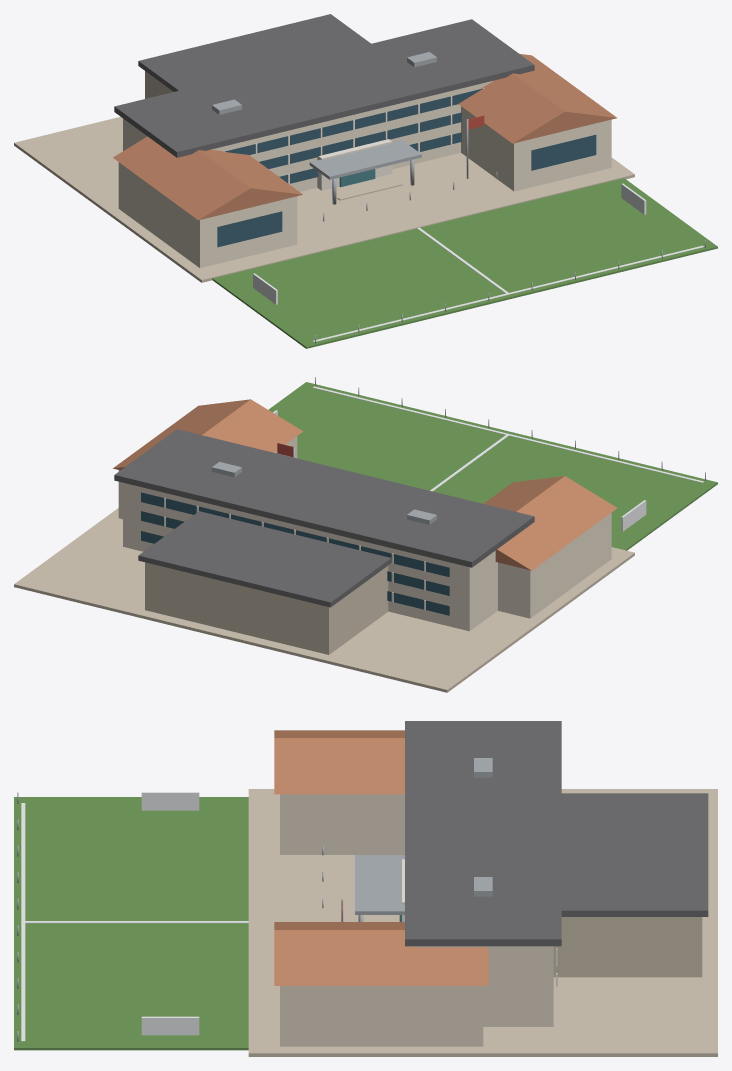
The model's file is school.glb.
3 views of the same model, one above another, from view 1: azimuth 30°, elevation 25°; view 2: azimuth 150°, elevation 25°; view 3: azimuth 270°, elevation 25° (orthographic). The views are drawn at different scales.
Parts seen in each view (by area): view 1: school_field, Merged_RoofDark, Merged_TownStone, Merged_TownPlaster, Merged_TownRoof, Merged_WindowGlassDark, Merged_PropsMetal, Merged_CityWhitePaint, Merged_TownTrim; view 2: Merged_RoofDark, Merged_TownStone, school_field, Merged_TownPlaster, Merged_TownRoof, Merged_WindowGlassDark, Merged_CityWhitePaint, Merged_PropsMetal; view 3: school_field, Merged_RoofDark, Merged_TownStone, Merged_TownPlaster, Merged_TownRoof, Merged_CityWhitePaint, Merged_PropsMetal.
Boxes of the visible parts, <box> form: school_field: <box>212,178,717,348</box>; Merged_RoofDark: <box>114,14,534,157</box>; Merged_TownStone: <box>14,71,634,282</box>; Merged_TownPlaster: <box>118,80,611,268</box>; Merged_TownRoof: <box>113,54,616,220</box>; Merged_WindowGlassDark: <box>217,88,596,247</box>; Merged_PropsMetal: <box>212,52,705,343</box>; Merged_CityWhitePaint: <box>253,183,703,342</box>; Merged_TownTrim: <box>223,88,484,190</box>; Merged_RoofDark: <box>114,429,534,607</box>; Merged_TownStone: <box>14,508,634,692</box>; school_field: <box>268,382,717,550</box>; Merged_TownPlaster: <box>118,436,611,631</box>; Merged_TownRoof: <box>113,399,617,570</box>; Merged_WindowGlassDark: <box>141,492,449,615</box>; Merged_CityWhitePaint: <box>273,386,703,531</box>; Merged_PropsMetal: <box>212,377,705,524</box>; school_field: <box>14,797,248,1050</box>; Merged_RoofDark: <box>405,721,708,946</box>; Merged_TownStone: <box>248,789,717,1056</box>; Merged_TownPlaster: <box>280,794,553,1046</box>; Merged_TownRoof: <box>274,730,488,985</box>; Merged_CityWhitePaint: <box>21,792,248,1041</box>; Merged_PropsMetal: <box>17,758,492,1041</box>.
Size of the model in its own units: 80 by 14.15 by 90.
